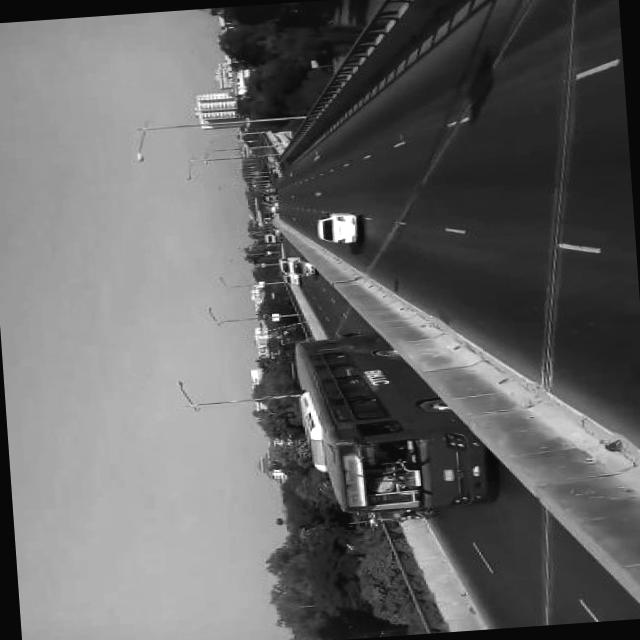bus: (280, 321, 493, 518)
car: (312, 207, 362, 246), (289, 255, 316, 277), (281, 270, 300, 284)
